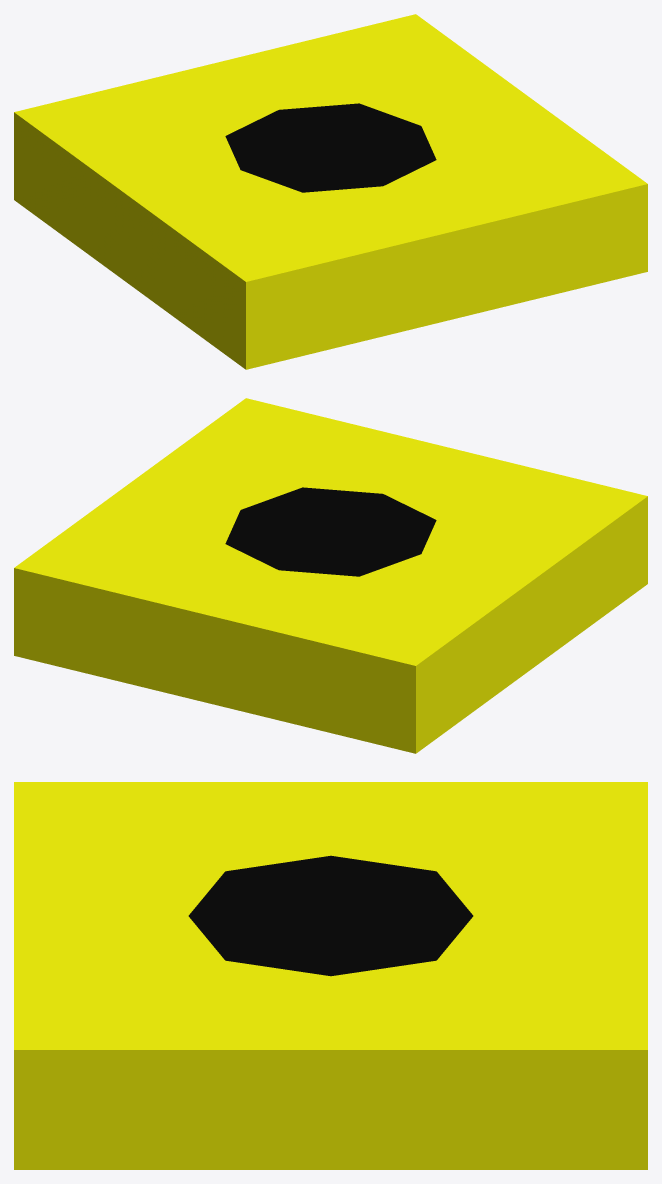
3 views of the same model, one above another, from view 1: azimuth 30°, elevation 25°; view 2: azimuth 150°, elevation 25°; view 3: azimuth 270°, elevation 25° (orthographic). The views are drawn at different scales.
Parts seen in each view (by area): view 1: Box; view 2: Box; view 3: Box.
Part boxes in pixels (box(x1,y1,x2,y2)): Box: box(14, 14, 647, 369); Box: box(14, 398, 647, 753); Box: box(14, 782, 647, 1169).
Bounding box in the file's own units: 52.72 × 11.01 × 52.72.
